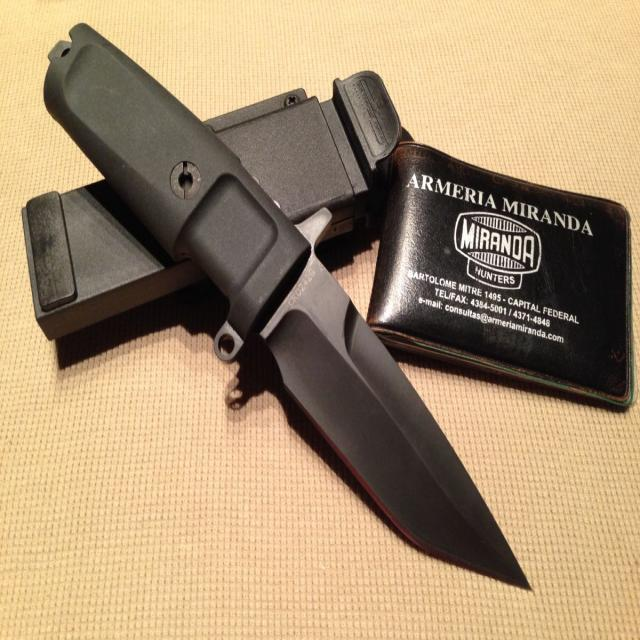knife: (42, 14, 541, 602)
